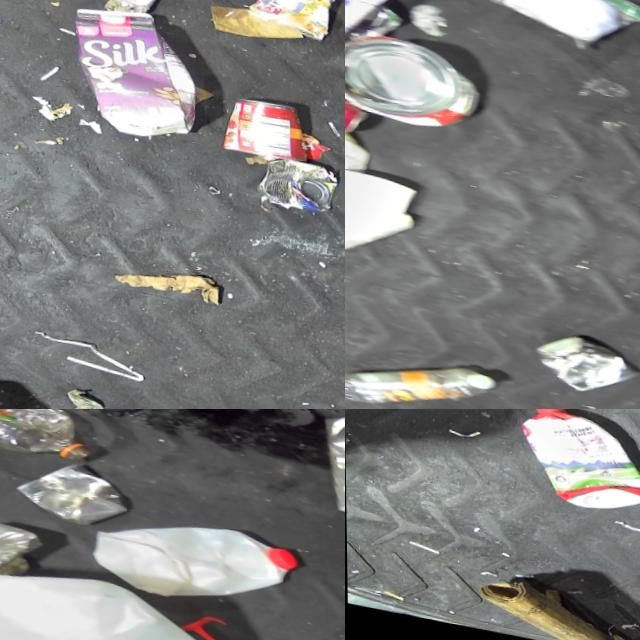can: (345, 20, 489, 135), (11, 450, 138, 532), (528, 323, 640, 398), (0, 498, 51, 635), (218, 88, 313, 161), (251, 147, 341, 213), (243, 0, 336, 37), (345, 74, 374, 134)
milk_jug: (84, 498, 305, 619), (0, 540, 233, 640), (345, 136, 424, 302)
non_white_jug: (57, 0, 212, 142)
plastic_bottle: (345, 338, 498, 409), (0, 409, 104, 465)
